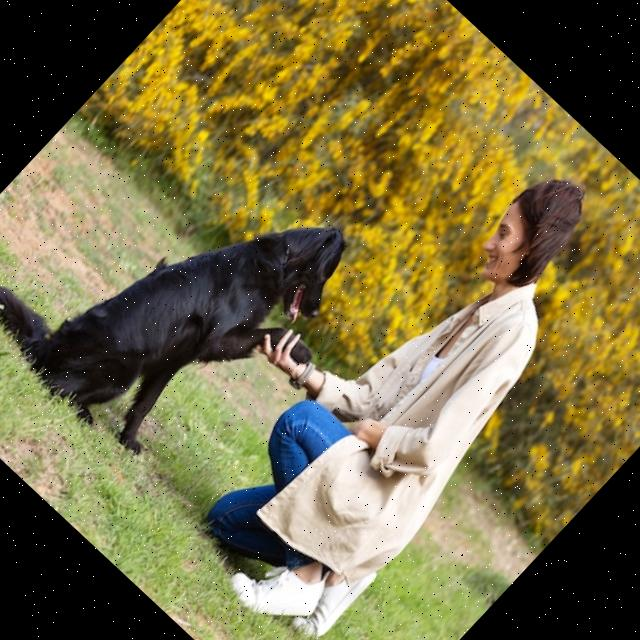Dog: (0, 61, 387, 507)
Person: (117, 97, 640, 640)
